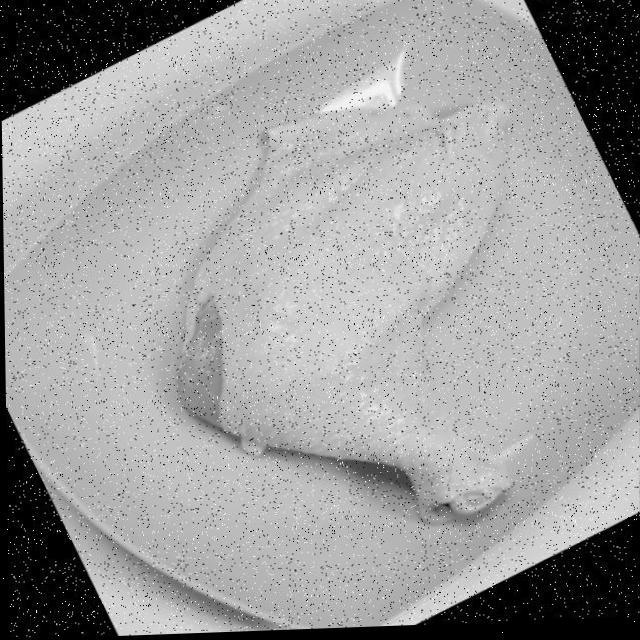quater: (194, 109, 546, 528)
